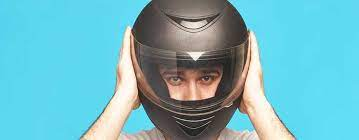helmets: (127, 0, 251, 140)
